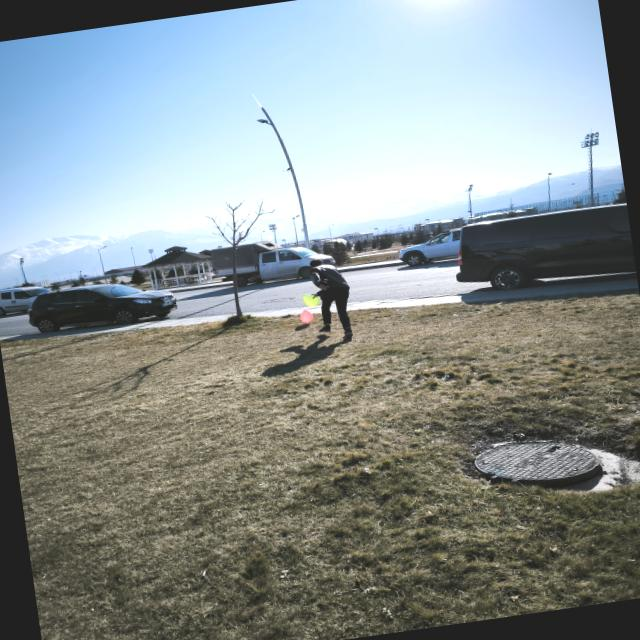balloon: (303, 295, 320, 306), (300, 310, 313, 323)
